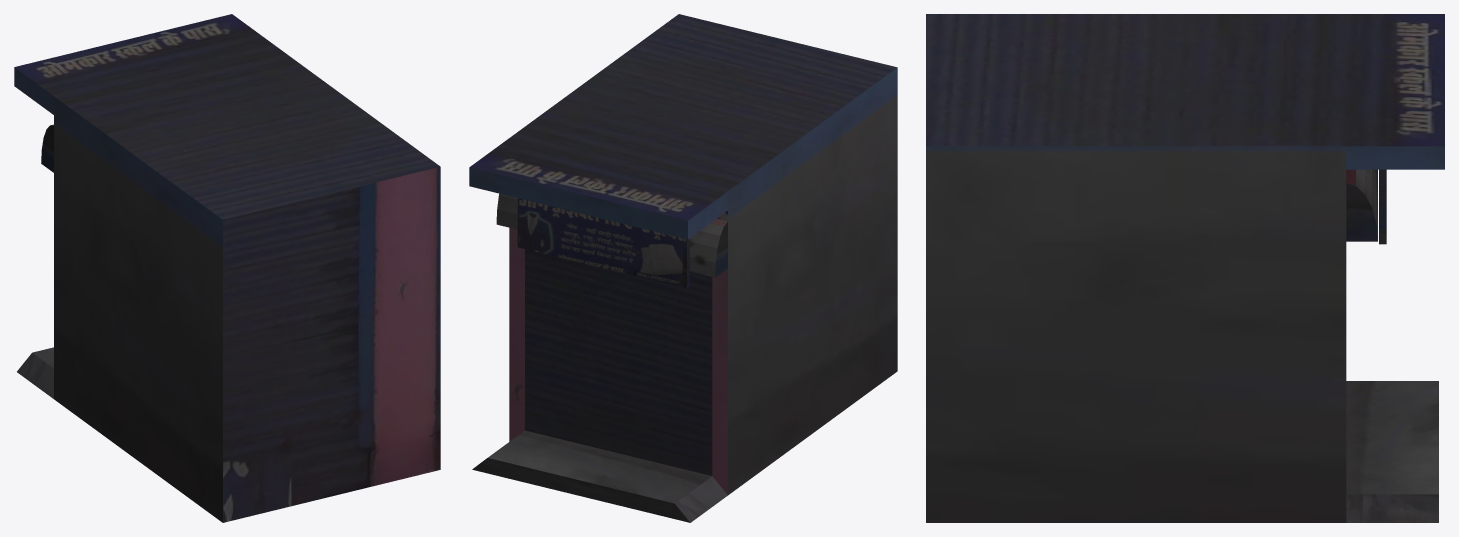
Rendered from drycleanshop.fbx.
3 views of the same model, side by side, from view 1: azimuth 30°, elevation 25°; view 2: azimuth 150°, elevation 25°; view 3: azimuth 270°, elevation 25° (orthographic). The views are drawn at different scales.
Visible parts, largest first — view 1: Cube.005; view 2: Cube.005, Plane.003; view 3: Cube.005, Plane.003.
Boxes of the visible parts, x1,y1,x2,y2 form: Cube.005: (14,14,440,522); Cube.005: (469,14,897,522); Plane.003: (517,198,689,288); Cube.005: (926,14,1444,522); Plane.003: (1379,169,1386,244).
Size of the model in its own units: 342 by 567 by 454.
1 material, 1 textured.
